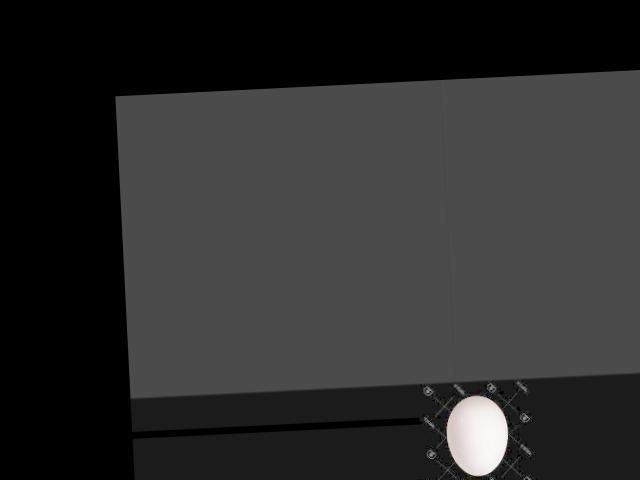egg: (446, 394, 510, 476)
